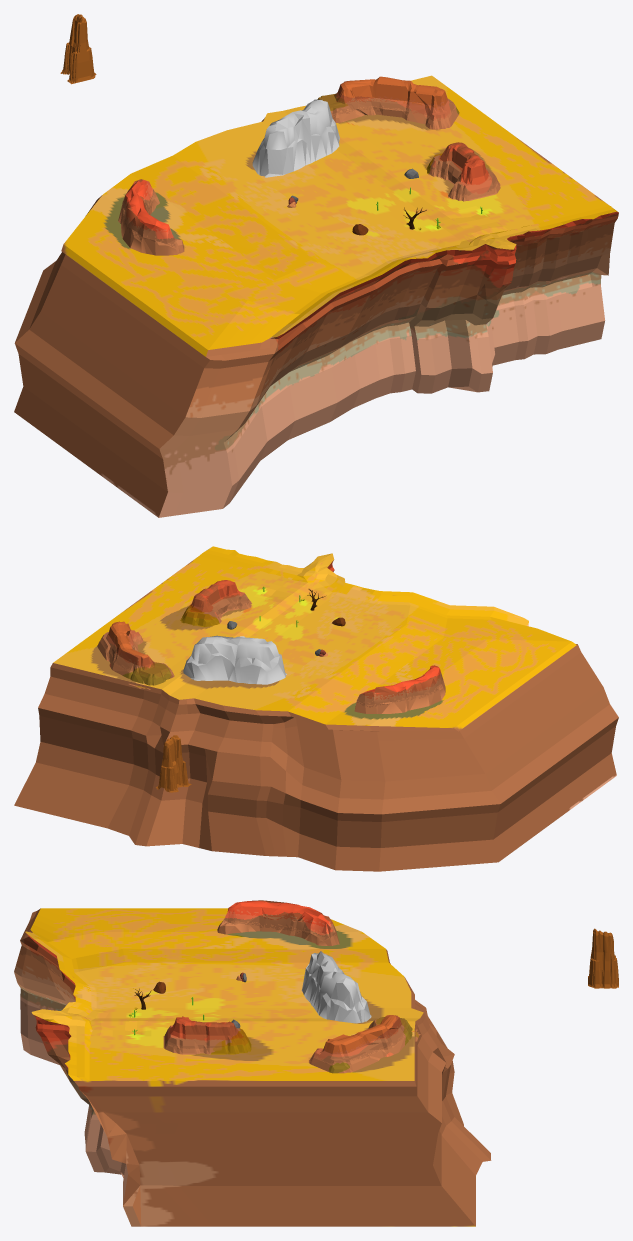
File: Western Background Assets.fbx
3 views of the same model, one above another, from view 1: azimuth 30°, elevation 25°; view 2: azimuth 150°, elevation 25°; view 3: azimuth 270°, elevation 25° (orthographic). The views are drawn at different scales.
Parts seen in each view (by area): view 1: Cliff, Mountain2, Mountain3, Mountain4, Mountain, Mountain.001; view 2: Cliff, Mountain3, Mountain2, Mountain4, Mountain, Mountain.001; view 3: Cliff, Mountain4, Mountain2, Mountain3, Mountain, Mountain.001.
Part boxes in pixels (x1=…): Cliff: x1=14, y1=75, x2=618, y2=517; Mountain2: x1=317, y1=76, x2=459, y2=129; Mountain3: x1=252, y1=99, x2=339, y2=177; Mountain4: x1=118, y1=179, x2=184, y2=255; Mountain: x1=426, y1=142, x2=500, y2=201; Mountain.001: x1=60, y1=14, x2=96, y2=84; Cliff: x1=14, y1=546, x2=618, y2=871; Mountain3: x1=183, y1=635, x2=286, y2=684; Mountain2: x1=97, y1=621, x2=174, y2=689; Mountain4: x1=354, y1=665, x2=445, y2=713; Mountain: x1=180, y1=580, x2=251, y2=626; Mountain.001: x1=156, y1=735, x2=191, y2=792; Cliff: x1=14, y1=908, x2=491, y2=1226; Mountain4: x1=217, y1=900, x2=339, y2=945; Mountain2: x1=309, y1=1015, x2=420, y2=1073; Mountain3: x1=301, y1=951, x2=371, y2=1023; Mountain: x1=163, y1=1016, x2=251, y2=1054; Mountain.001: x1=588, y1=928, x2=618, y2=988.
Bounding box in the file's own units: 32628 × 13682 × 37861.
